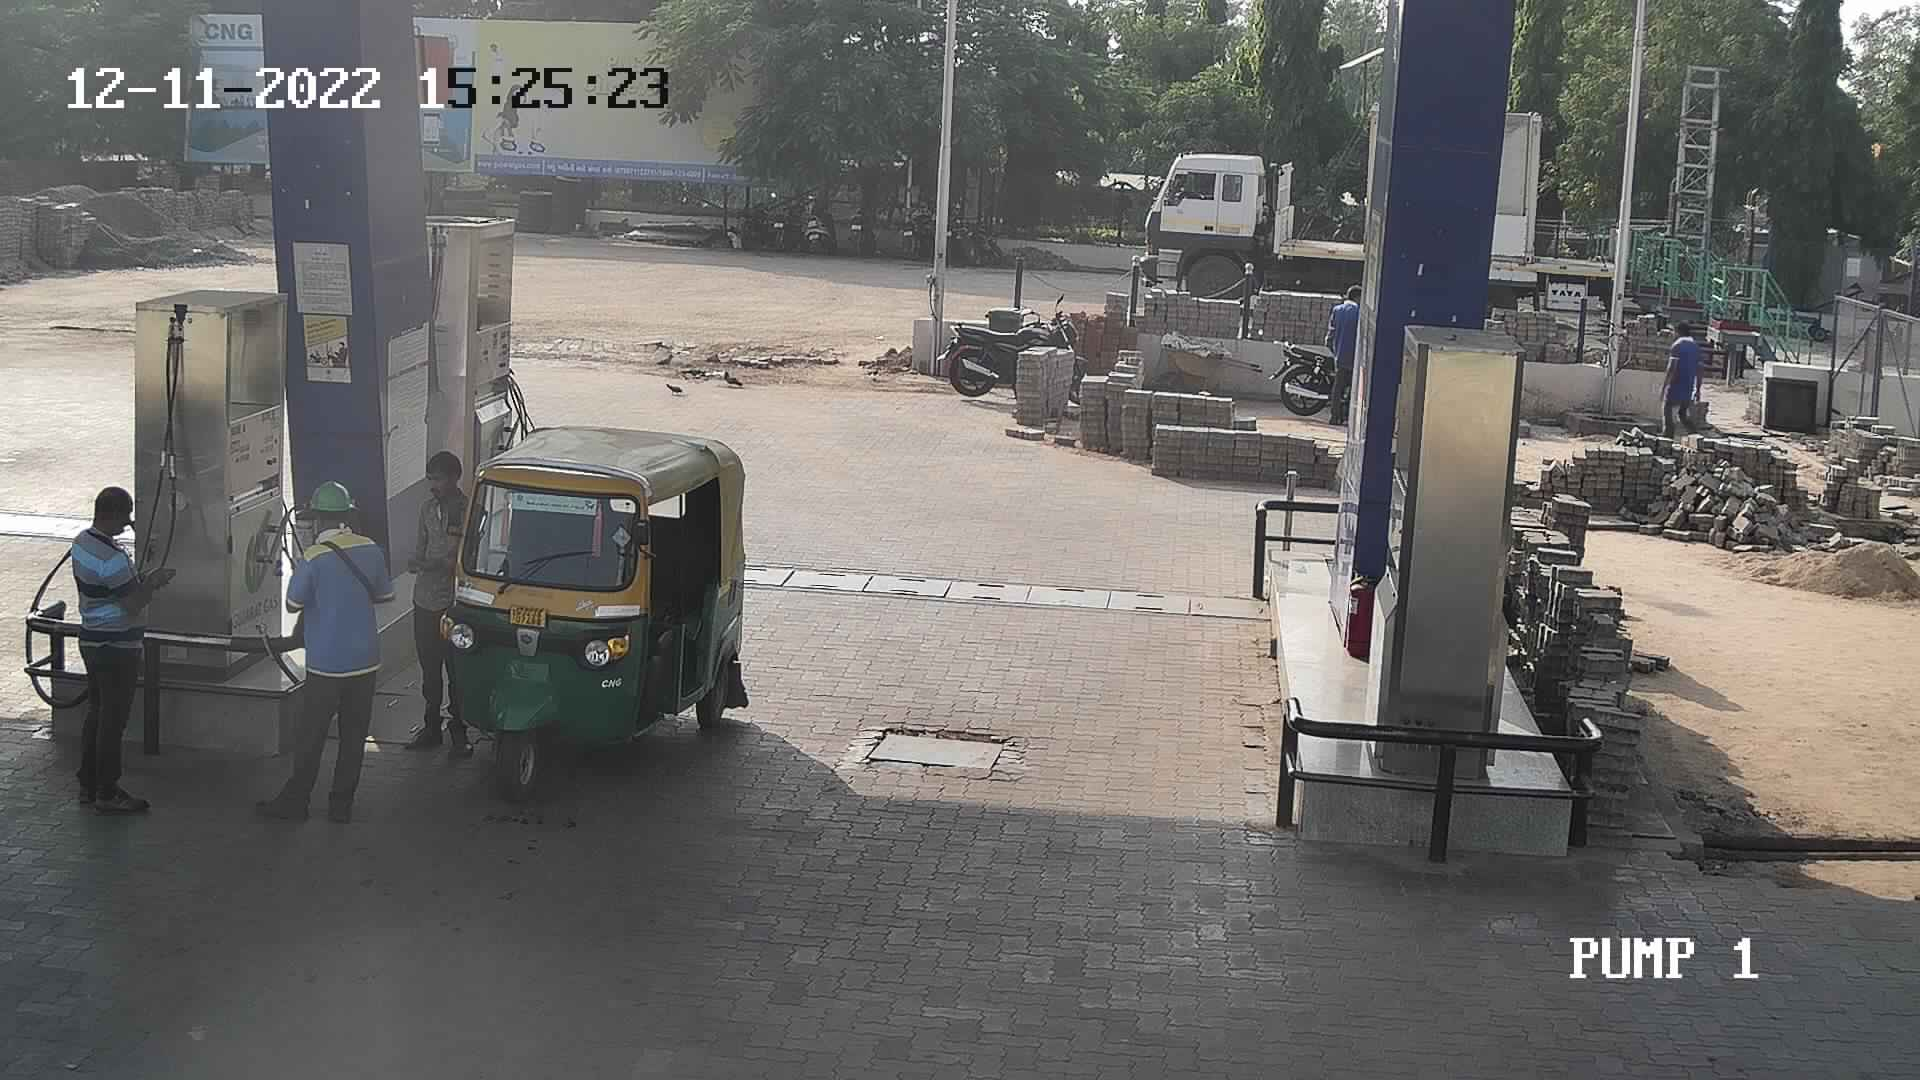Auto: (415, 417, 757, 812)
Bike: (931, 286, 1104, 426), (1262, 320, 1365, 426), (940, 191, 1021, 280), (893, 189, 938, 264), (731, 189, 782, 253), (840, 187, 884, 258), (767, 189, 812, 257), (802, 191, 844, 255)
HMV: (1120, 92, 1385, 320)
Others: (244, 476, 396, 824)
